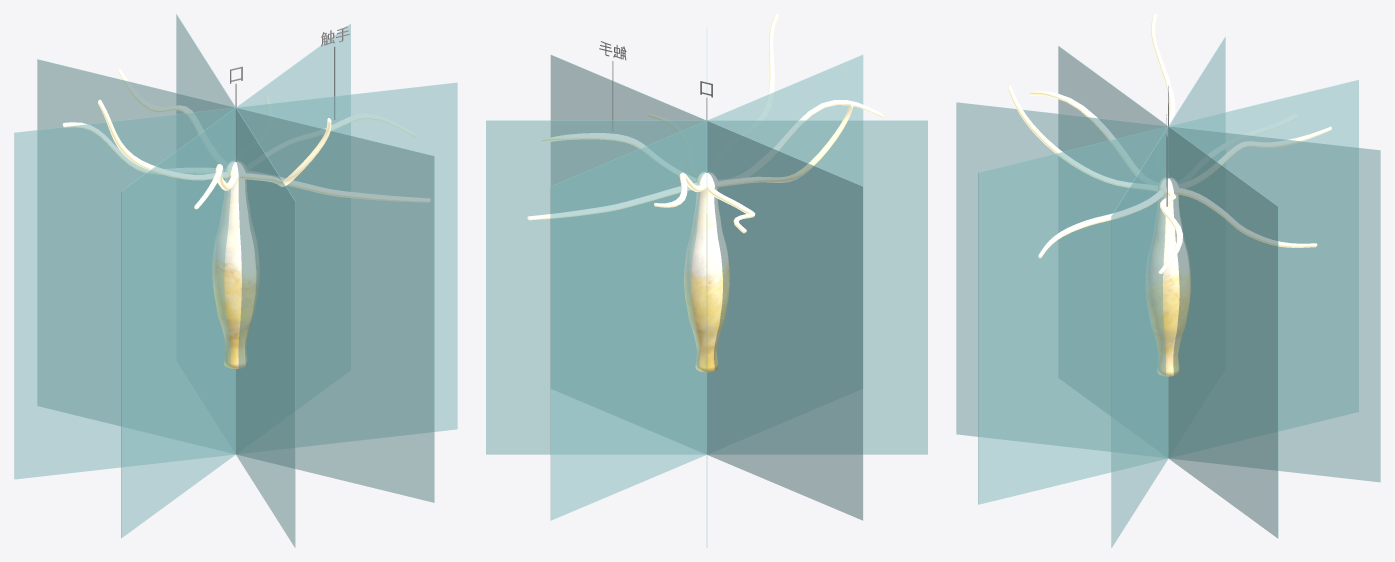
The model's file is shuixi.gltf.
3 renders of one model, left to right at view 1: azimuth 30°, elevation 25°; view 2: azimuth 150°, elevation 25°; view 3: azimuth 270°, elevation 25°, orthographic. The views are drawn at different scales.
Parts seen in each view (by area): view 1: pCube1, pCube3, pCube4, pCube2, transform1, polySurface9, polySurface11, polySurface5, polySurface8, polySurface10, polySurface7; view 2: pCube4, pCube1, pCube2, transform1, polySurface9, polySurface3, polySurface6, pCube3, polySurface5, polySurface10; view 3: pCube2, pCube3, pCube4, pCube1, transform1, polySurface10, polySurface7, polySurface6, polySurface11, polySurface3, polySurface9, polySurface5.
Part boxes in pixels (box(x1,y1,x2,y2)): pCube1: box(14, 82, 457, 479); pCube3: box(37, 59, 434, 502); pCube4: box(121, 23, 350, 538); pCube2: box(176, 14, 295, 547); transform1: box(212, 161, 259, 368); polySurface9: box(98, 99, 228, 180); polySurface11: box(247, 171, 430, 202); polySurface5: box(265, 113, 415, 156); polySurface8: box(62, 122, 223, 174); polySurface10: box(240, 118, 331, 186); polySurface7: box(118, 69, 203, 133); pCube4: box(486, 120, 927, 454); pCube1: box(550, 54, 863, 520); pCube2: box(550, 54, 863, 520); transform1: box(684, 172, 729, 372); polySurface9: box(716, 103, 853, 187); polySurface3: box(718, 100, 883, 180); polySurface6: box(527, 182, 698, 220); pCube3: box(706, 28, 707, 547); polySurface5: box(541, 133, 695, 182); polySurface10: box(740, 14, 778, 136); pCube2: box(956, 102, 1380, 482); pCube3: box(978, 80, 1358, 504); pCube4: box(1058, 46, 1278, 538); pCube1: box(1111, 37, 1225, 547); transform1: box(1146, 177, 1190, 376); polySurface10: box(1007, 85, 1157, 191); polySurface7: box(1179, 126, 1331, 188); polySurface6: box(1176, 188, 1317, 247); polySurface11: box(1038, 190, 1164, 258); polySurface3: box(1030, 91, 1139, 175); polySurface9: box(1151, 14, 1175, 126); polySurface5: box(1158, 190, 1182, 273).
Bounding box in the file's own units: 62.23 × 62.25 × 62.23.
Materials: 4 (1 with a texture image).
